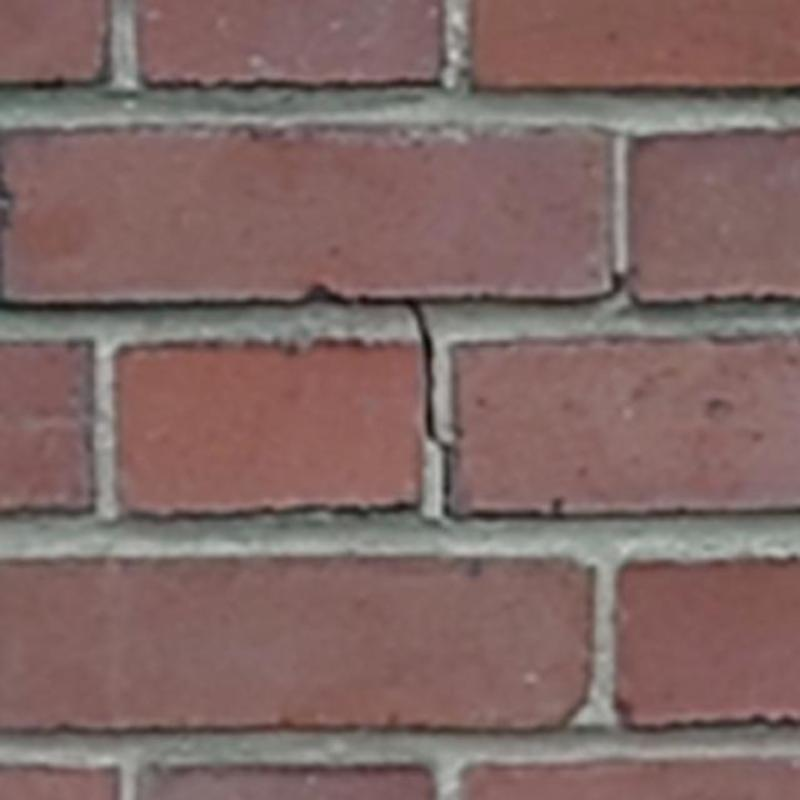pothole: (401, 298, 461, 525)
